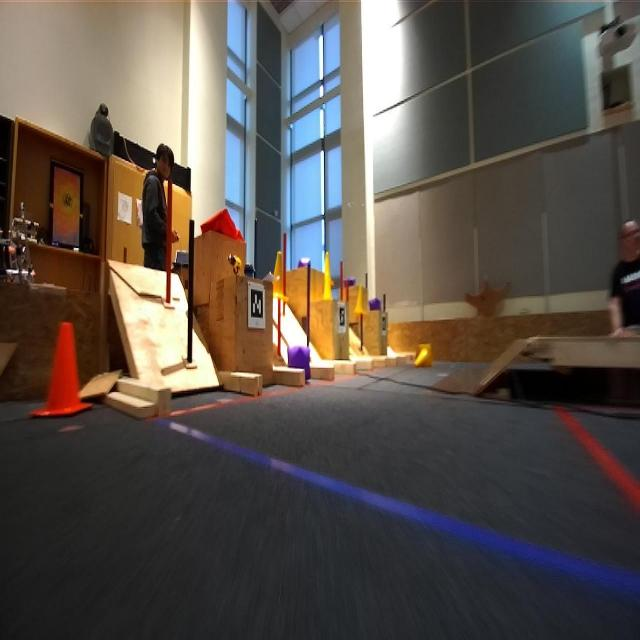frc_cone: (272, 252, 288, 298), (320, 258, 334, 304), (413, 343, 433, 371), (352, 281, 367, 318), (321, 250, 333, 286)
frc_cube: (288, 344, 310, 371), (366, 295, 381, 314), (343, 278, 357, 286)
